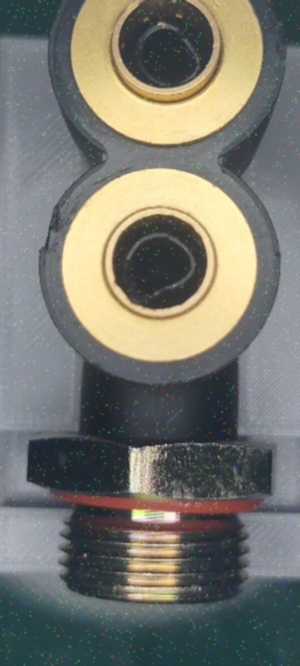bump: (40, 208, 62, 260)
joint line: (149, 388, 162, 439)
off-centered: (119, 221, 203, 307), (127, 14, 205, 93)
white mark: (164, 403, 183, 430)
